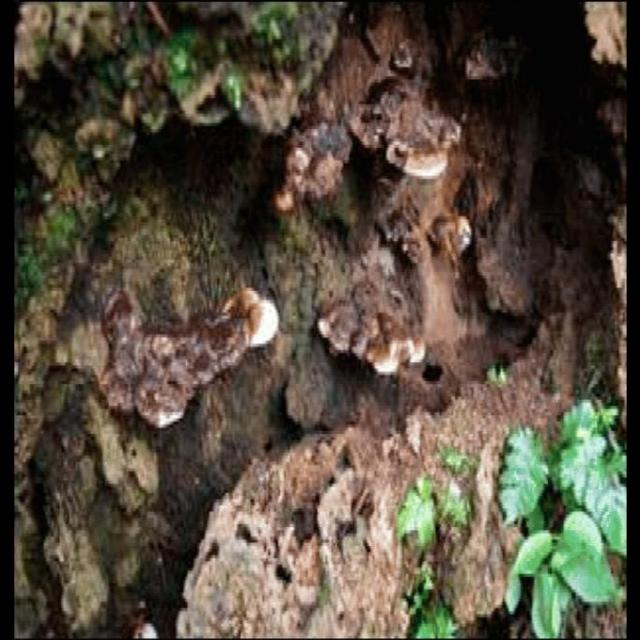ganoderma: (99, 295, 229, 431), (349, 81, 468, 178), (314, 282, 430, 378)
primordium: (221, 288, 279, 351)
